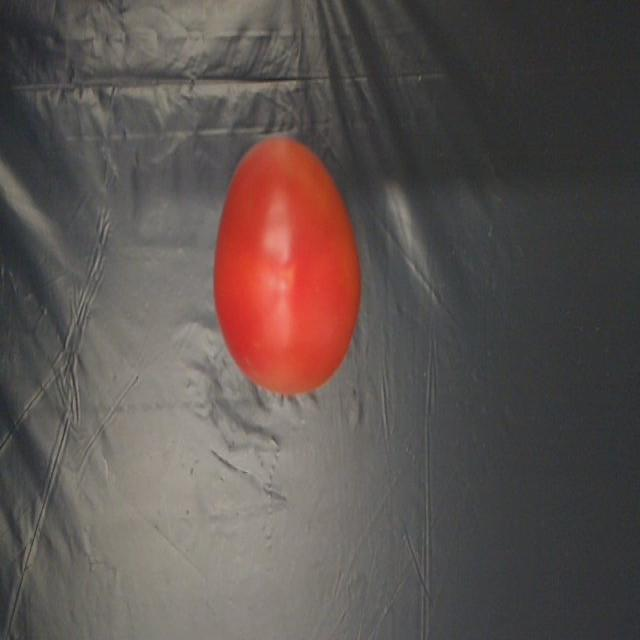kirmizi: (214, 130, 354, 406)
